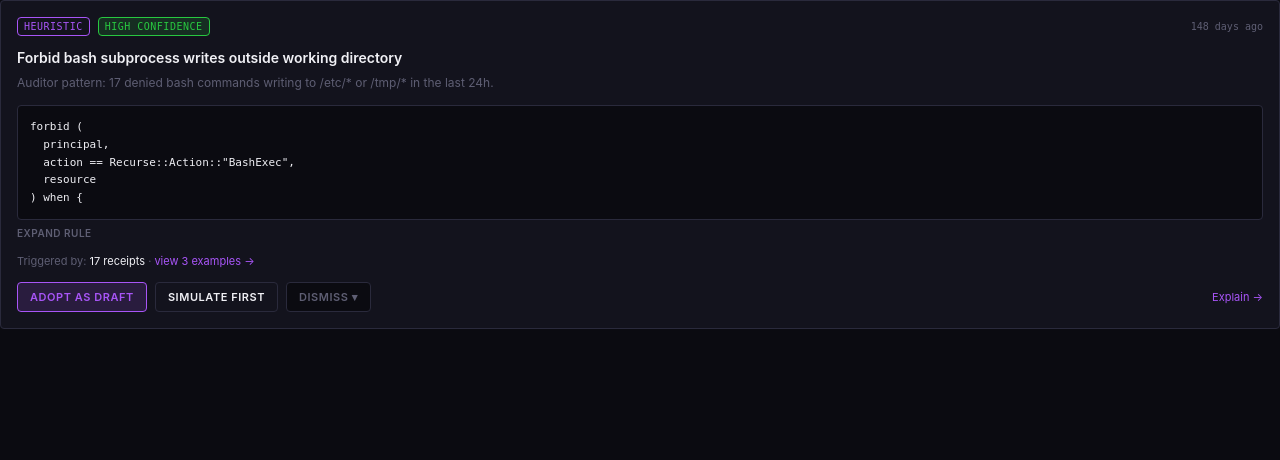
Test: SuggestionCard dismiss dropdown › opens a menu with 4 reason options on Dismiss click
The width and height of the screenshot is (1280, 460).
Click the button with test id "suggestion-dismiss" at (328, 297), box [286, 282, 371, 312]
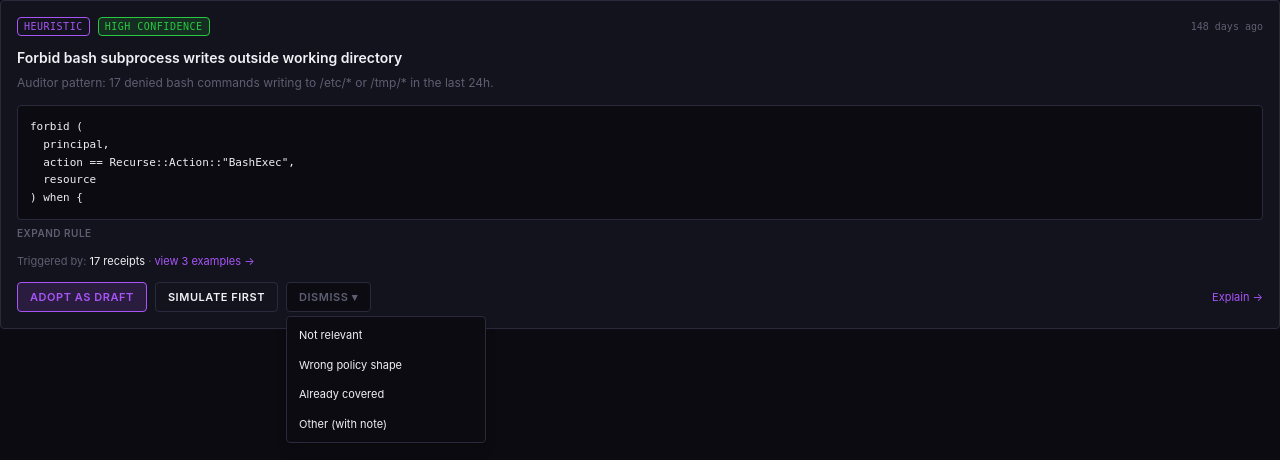
Expected: the menu with test id "suggestion-dismiss-menu" is shown, [286, 316, 486, 443]
Expected: the menu item with test id "suggestion-dismiss-reason-not_relevant" is shown, [291, 321, 481, 350]
Expected: the menu item with test id "suggestion-dismiss-reason-wrong_policy_shape" is shown, [291, 351, 481, 379]
